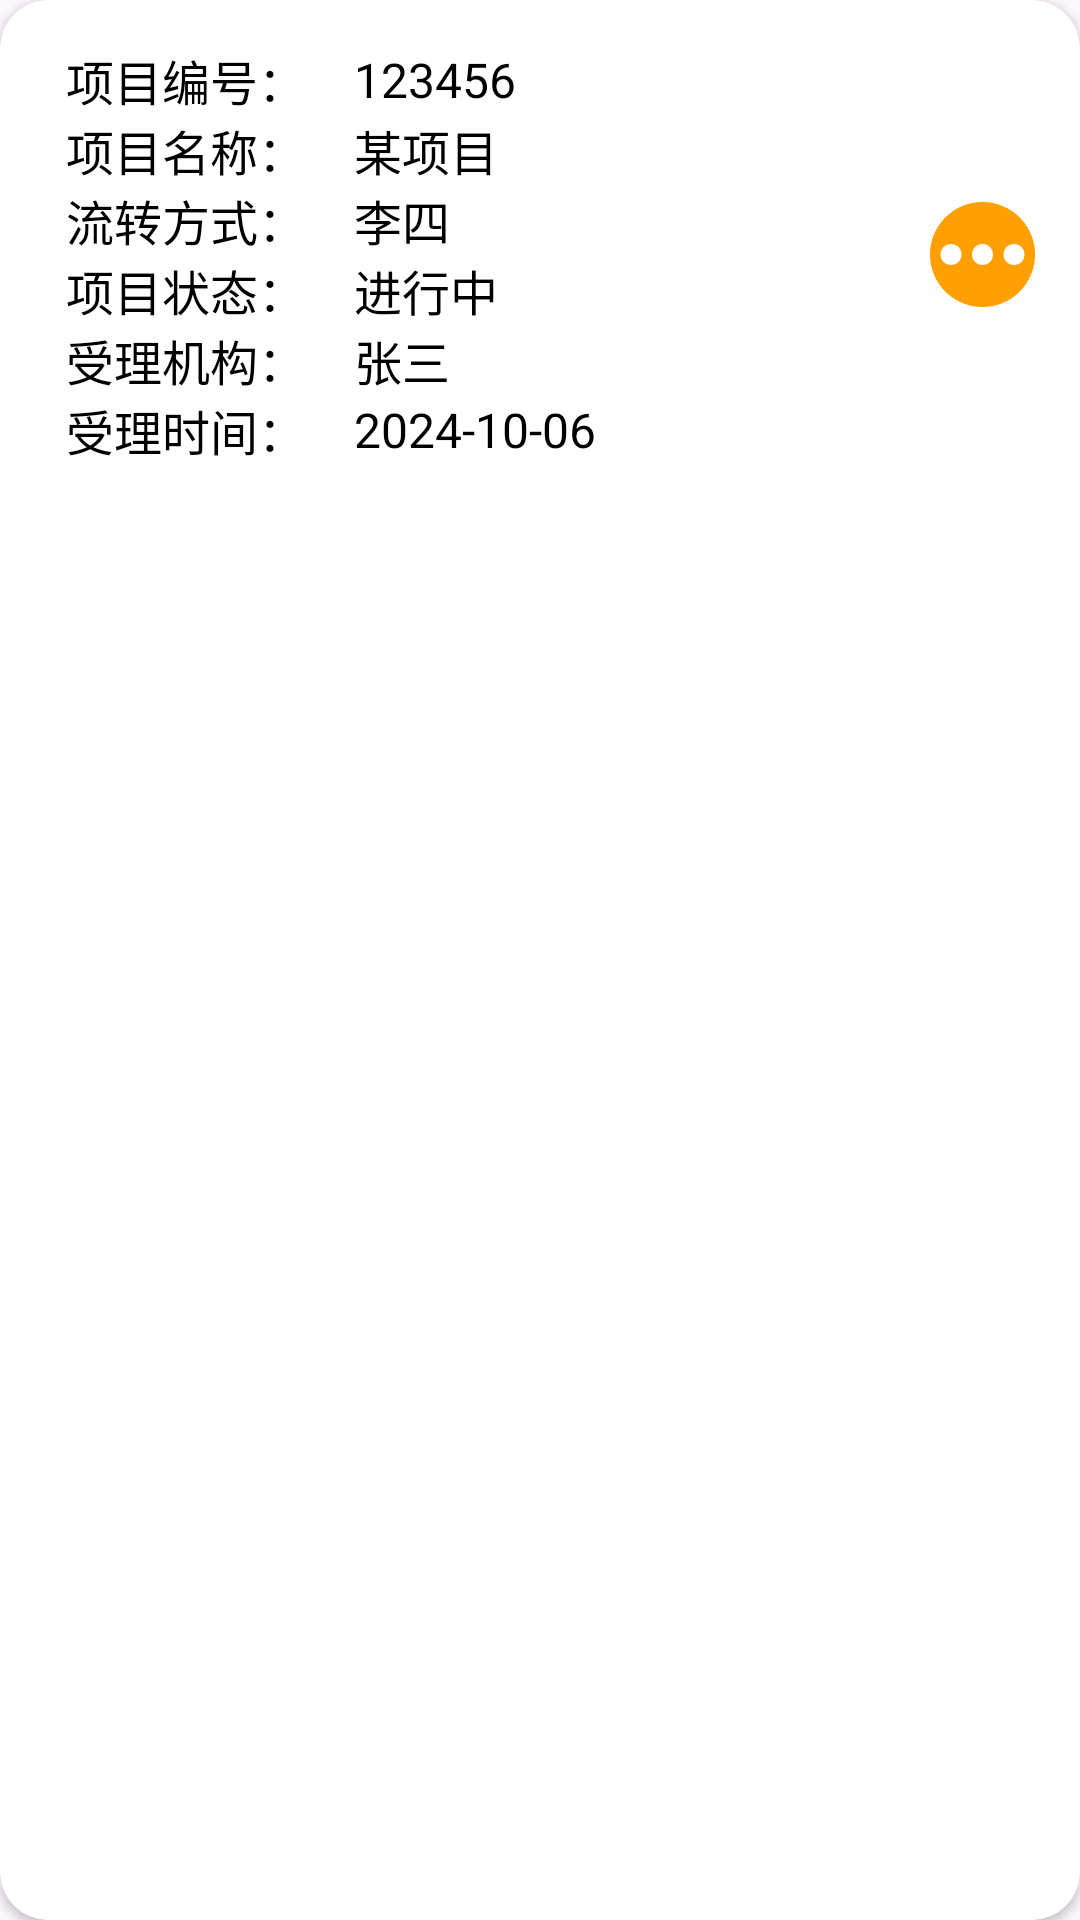

Screen size 1080×1920. Icon name, then its box in pixels as BBox(x1, y1, x2, y2):
详情: BBox(930, 202, 1035, 307)
